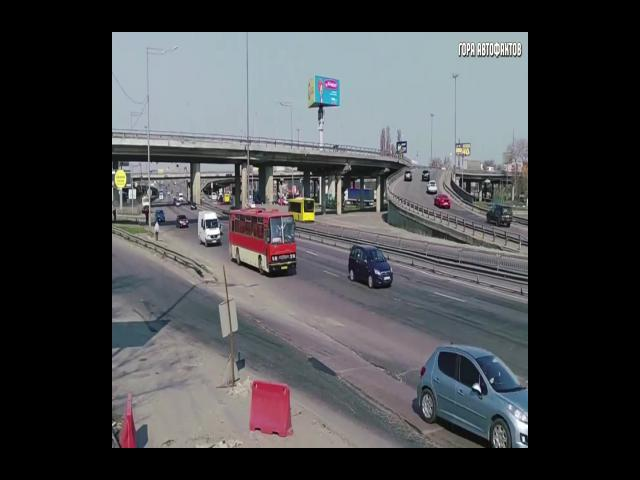bus: (229, 206, 297, 276), (290, 198, 316, 224)
car: (419, 343, 528, 448), (348, 242, 397, 291), (196, 210, 221, 246), (484, 203, 512, 228), (174, 214, 190, 231), (433, 193, 451, 208), (427, 179, 440, 194), (154, 210, 168, 221), (402, 171, 413, 184), (423, 170, 431, 181)
